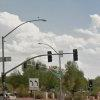Tree: (30, 58, 94, 96)
